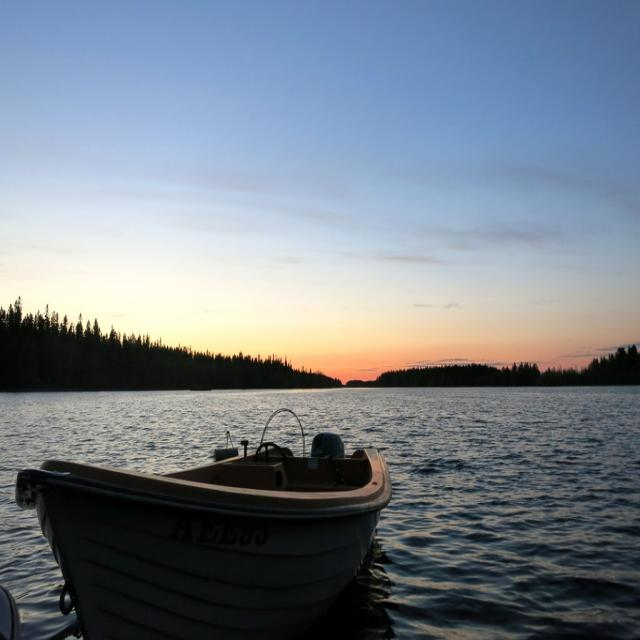Boat: (14, 385, 406, 640)
